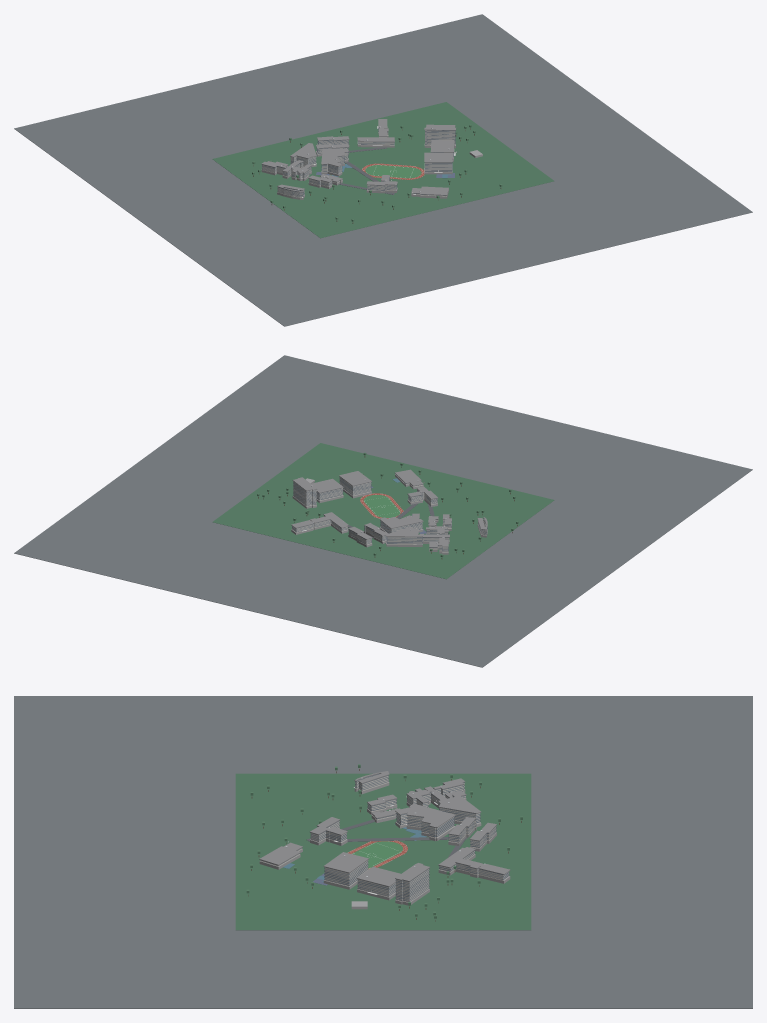
Rendered from must-campus.glb.
3 renders of one model, top to bottom at view 1: azimuth 30°, elevation 25°; view 2: azimuth 150°, elevation 25°; view 3: azimuth 270°, elevation 25°, orthographic. The views are drawn at different scales.
Visible parts, largest first — view 1: Ground, Lawn; view 2: Ground, Lawn; view 3: Ground, Lawn, library_parapet, complex_parapet, sport_pitch, gym_parapet.
Boxes of the visible parts, x1=… form: Ground: x1=14, y1=14, x2=752, y2=326; Lawn: x1=212, y1=102, x2=554, y2=238; Ground: x1=14, y1=355, x2=752, y2=667; Lawn: x1=212, y1=443, x2=554, y2=579; Ground: x1=14, y1=696, x2=752, y2=1008; Lawn: x1=235, y1=773, x2=531, y2=930; library_parapet: x1=395, y1=803, x2=455, y2=827; complex_parapet: x1=323, y1=852, x2=369, y2=873; sport_pitch: x1=353, y1=843, x2=400, y2=867; gym_parapet: x1=356, y1=866, x2=400, y2=886.
Size of the model in its own units: 1500 by 59.45 by 1500.
